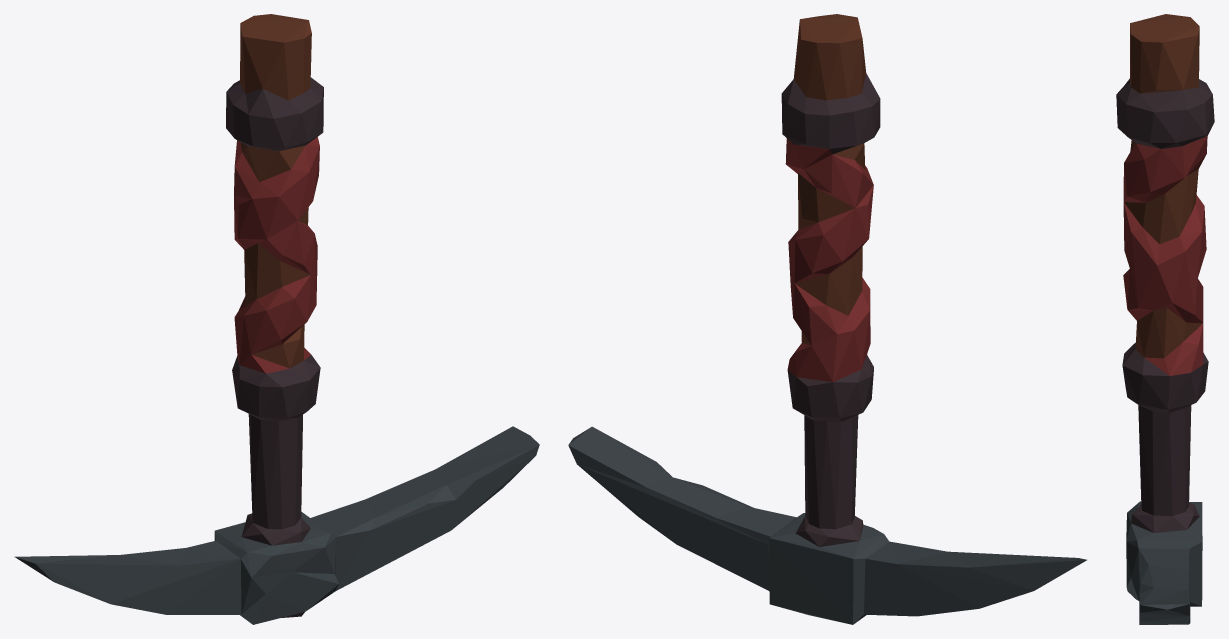
The model's file is MDungeon_PickAxe.FBX.
The picture shows the model from 3 angles, left to right: view 1: azimuth 30°, elevation 25°; view 2: azimuth 150°, elevation 25°; view 3: azimuth 270°, elevation 25°; orthographic projection. The views are drawn at different scales.
Visible parts, largest first — view 1: MDungeon_PickAxe_LOD0; view 2: MDungeon_PickAxe_LOD0; view 3: MDungeon_PickAxe_LOD0.
Part boxes in pixels (x1,y1,x2,y2): MDungeon_PickAxe_LOD0: (14, 14, 539, 624); MDungeon_PickAxe_LOD0: (568, 14, 1086, 624); MDungeon_PickAxe_LOD0: (1116, 14, 1214, 624).
Size of what is drawn, in the model's own units: 0.9542 by 1.03 by 0.1616.
1 material, 1 textured.
